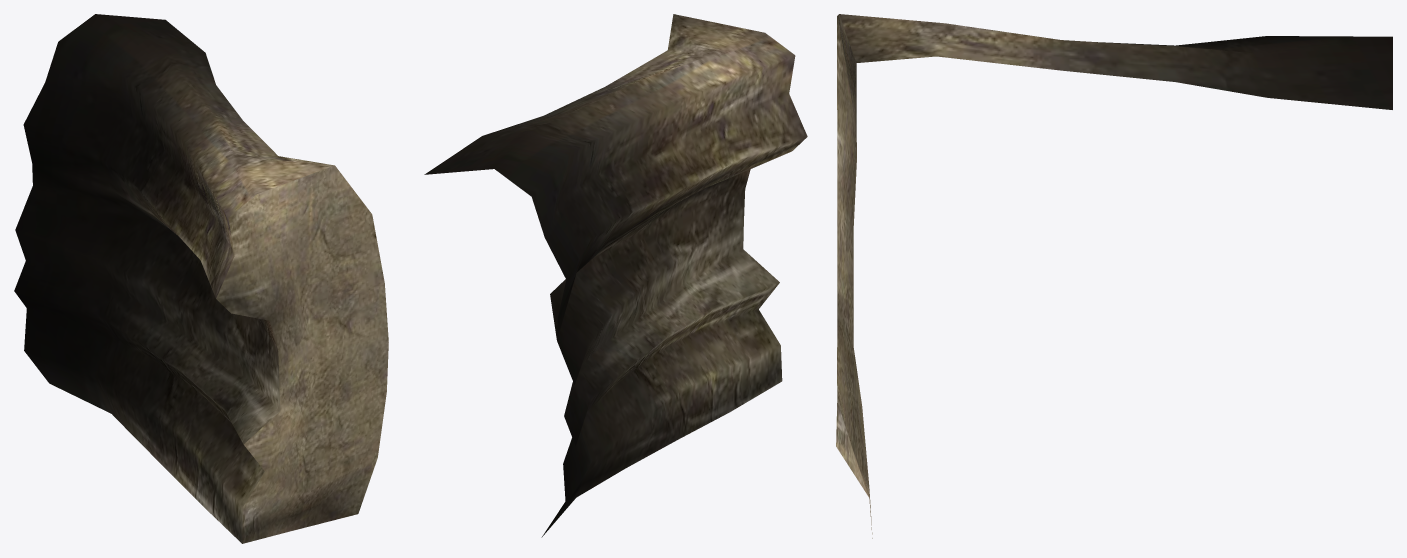
3 views of the same model, side by side, from view 1: azimuth 30°, elevation 25°; view 2: azimuth 150°, elevation 25°; view 3: azimuth 270°, elevation 25° (orthographic). The views are drawn at different scales.
Parts seen in each view (by area): view 1: model_Object36; view 2: model_Object36; view 3: model_Object36.
Boxes of the visible parts, x1=… form: model_Object36: x1=14, y1=14, x2=388, y2=543; model_Object36: x1=424, y1=14, x2=807, y2=537; model_Object36: x1=836, y1=14, x2=1392, y2=538.
Size of the model in its own units: 1.79 by 3.52 by 3.73.
Materials: 2 (2 with a texture image).
